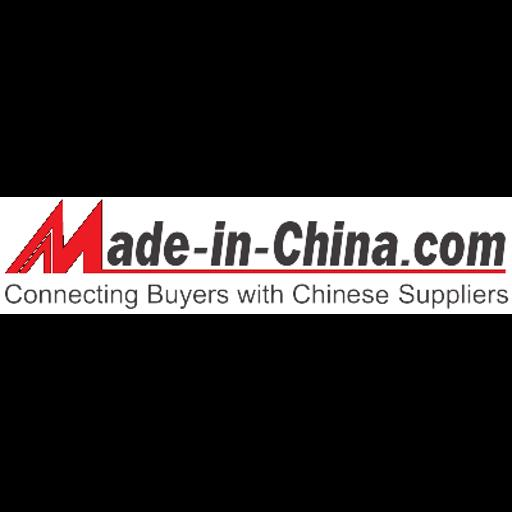Made-In-China: (0, 197, 512, 314)
